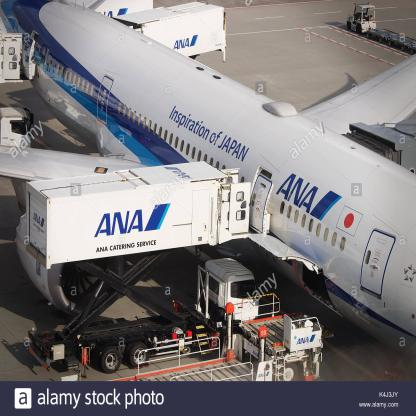Catering truck: (15, 153, 270, 354)
